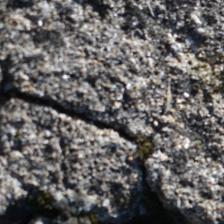Crack: (5, 41, 158, 123)
